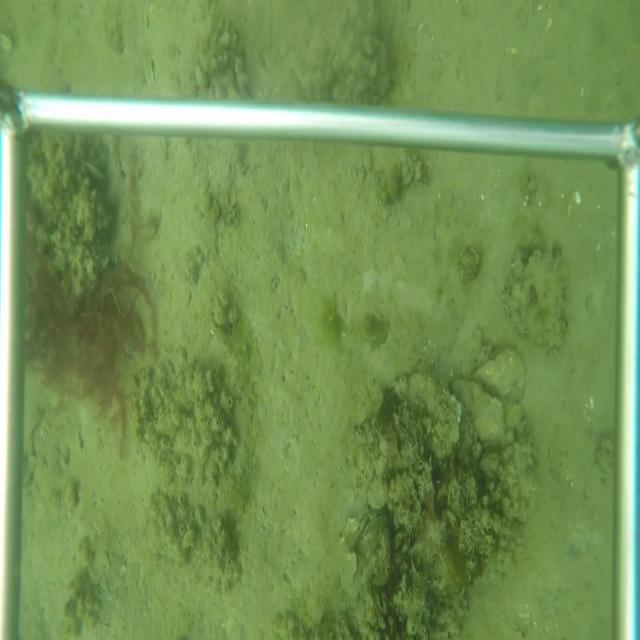Oyster-Closed: (469, 345, 529, 403)
Oyster-Indeterminate: (501, 242, 570, 362), (391, 365, 462, 473), (450, 373, 506, 447)
Oyster-Open: (357, 506, 386, 555)
